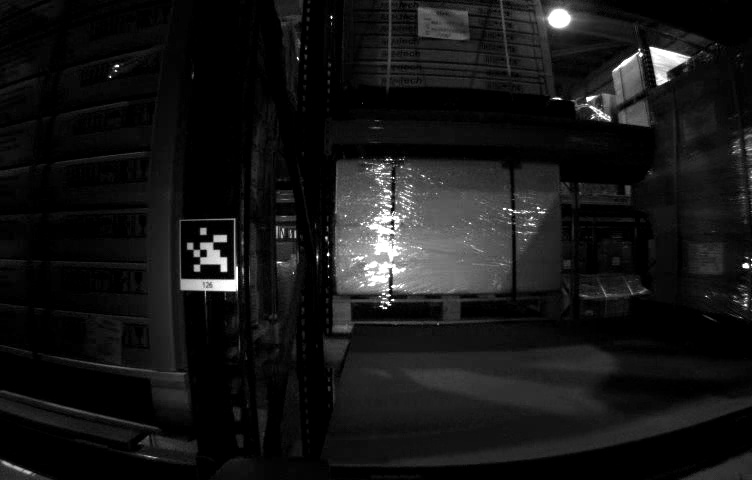True Barcode: (84, 314, 123, 367)
